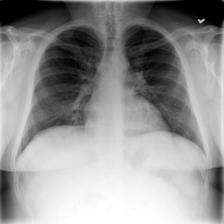normal: (12, 16, 212, 164)
